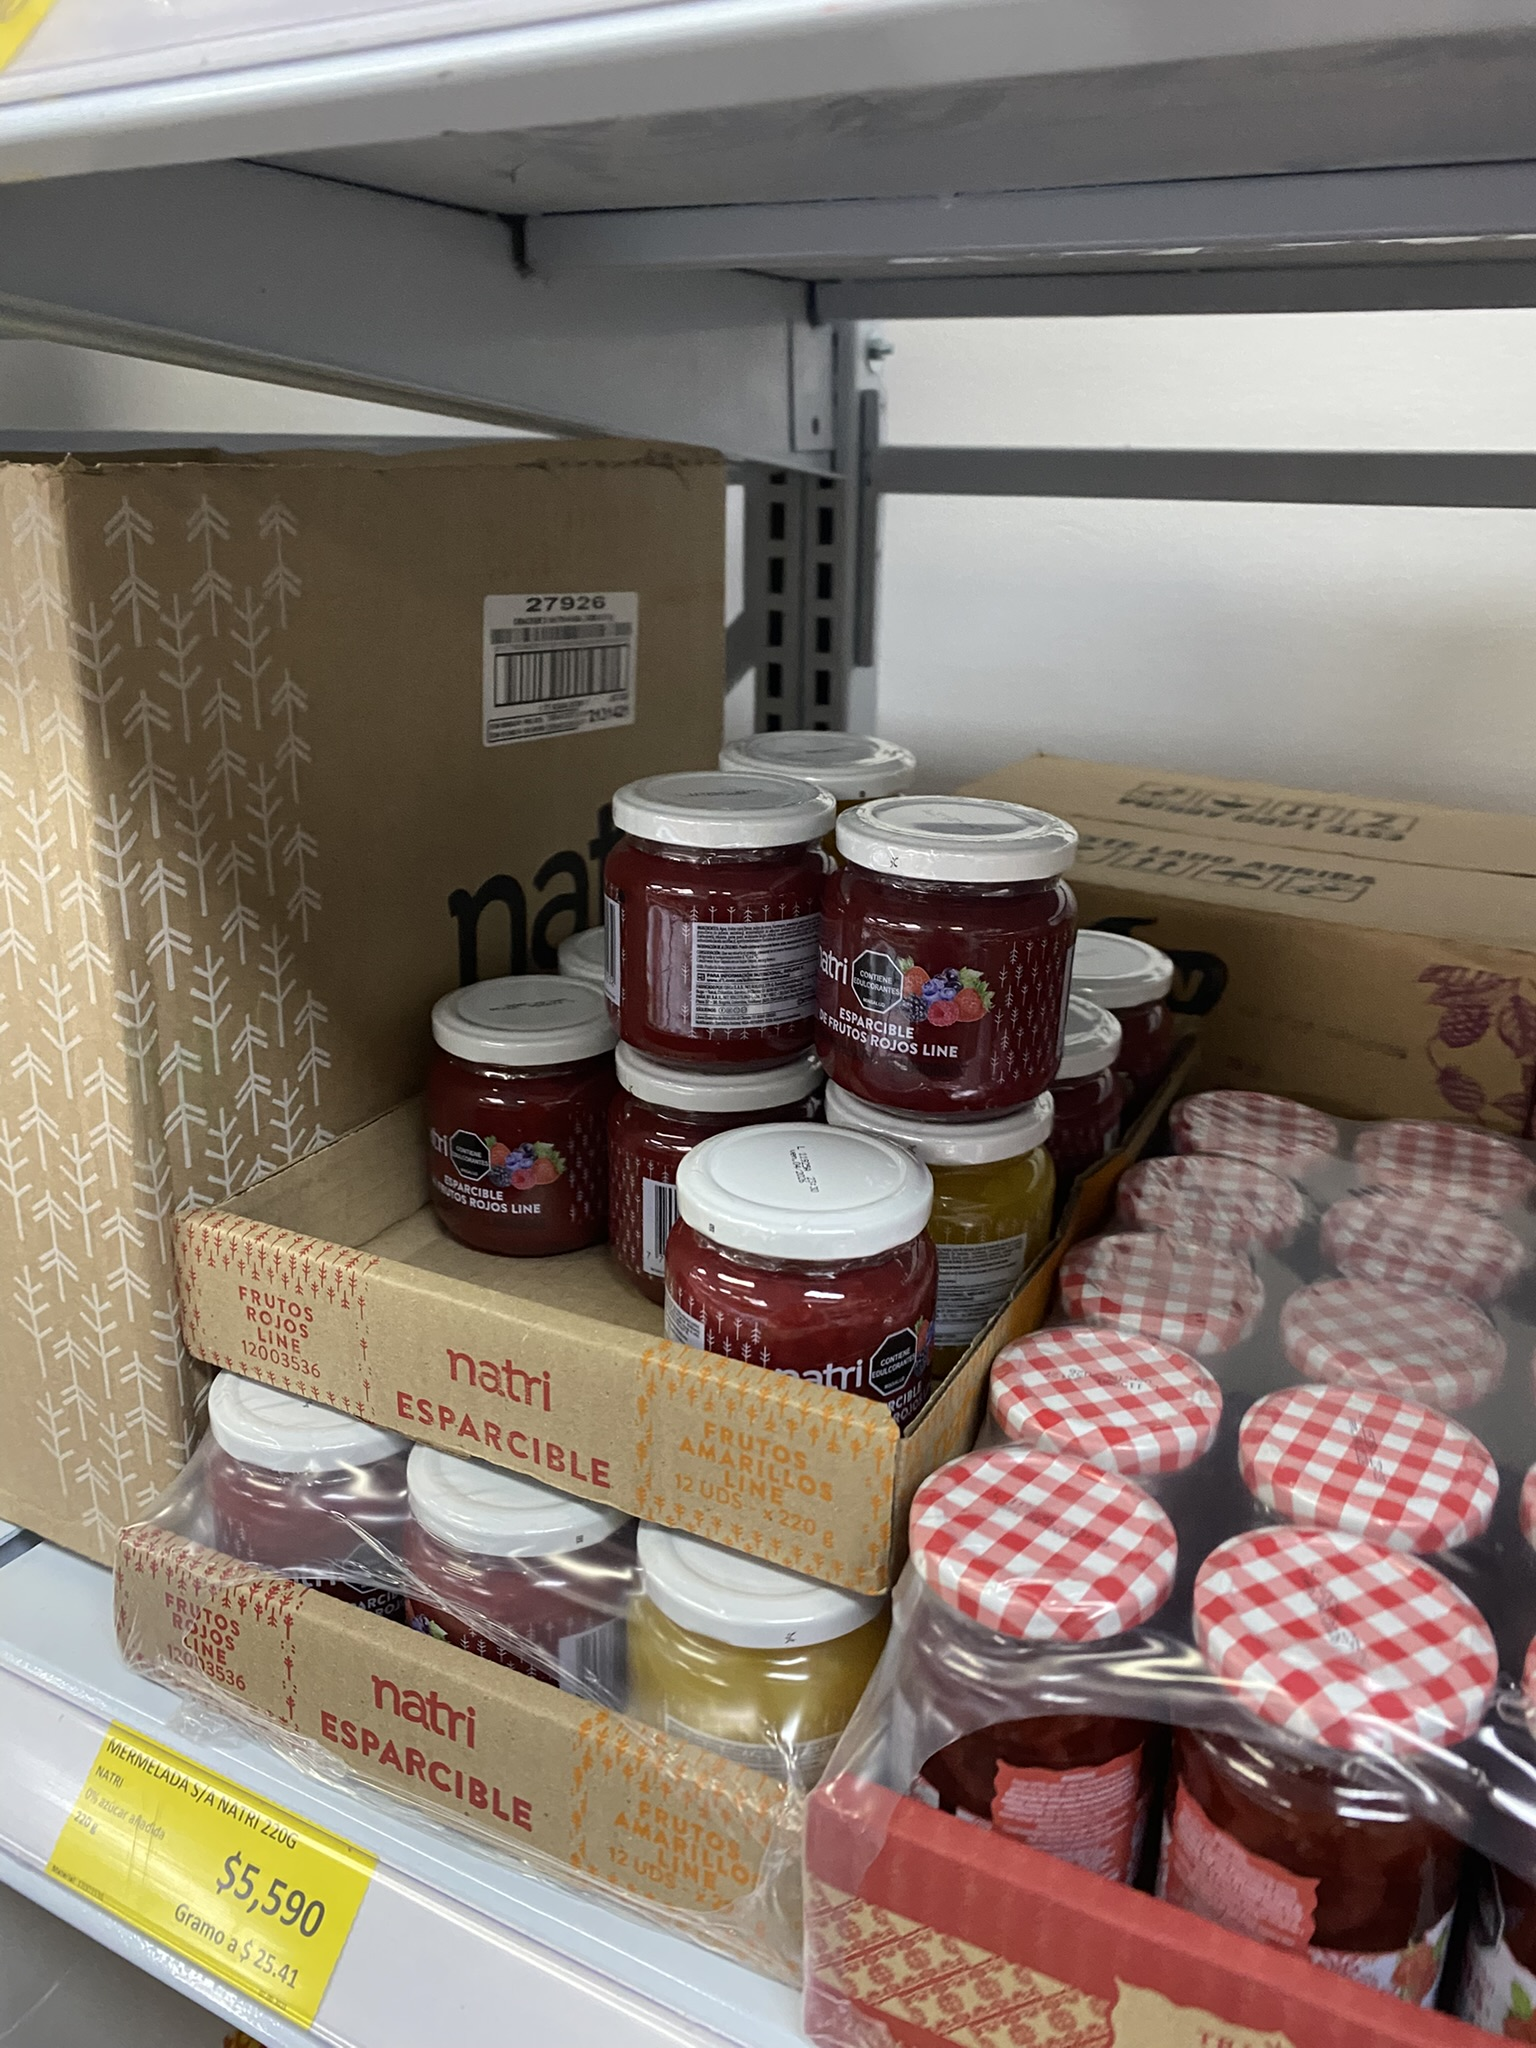Mermelada: (824, 784, 1094, 1095), (670, 1134, 957, 1405), (595, 766, 826, 1068), (418, 980, 620, 1261), (611, 1047, 818, 1303)
